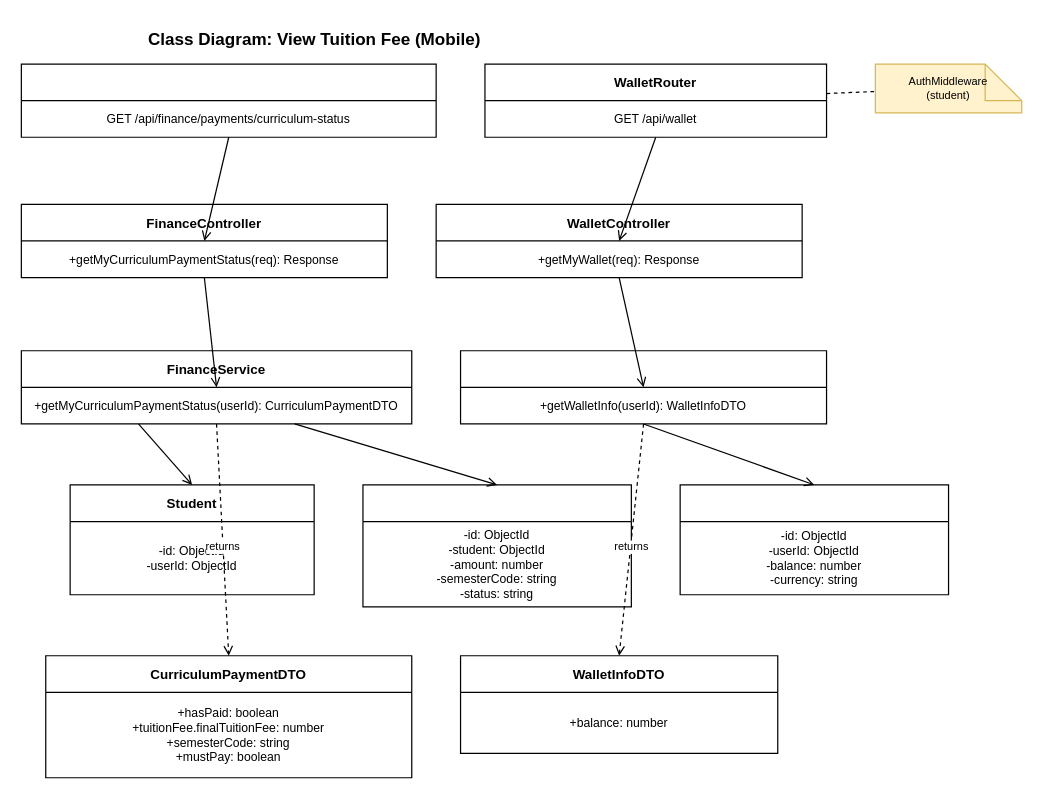
Image size: 1043x799. Some labels were removed from this diagram. The shapes that lost their labels are listed below. From the top down, each one's box as (x1, y1, x2, y2) in pixels, then its label:
(20, 63, 436, 137): FinanceRouter
(459, 350, 827, 424): WalletService
(362, 484, 631, 607): Payment
(679, 484, 949, 595): Wallet
